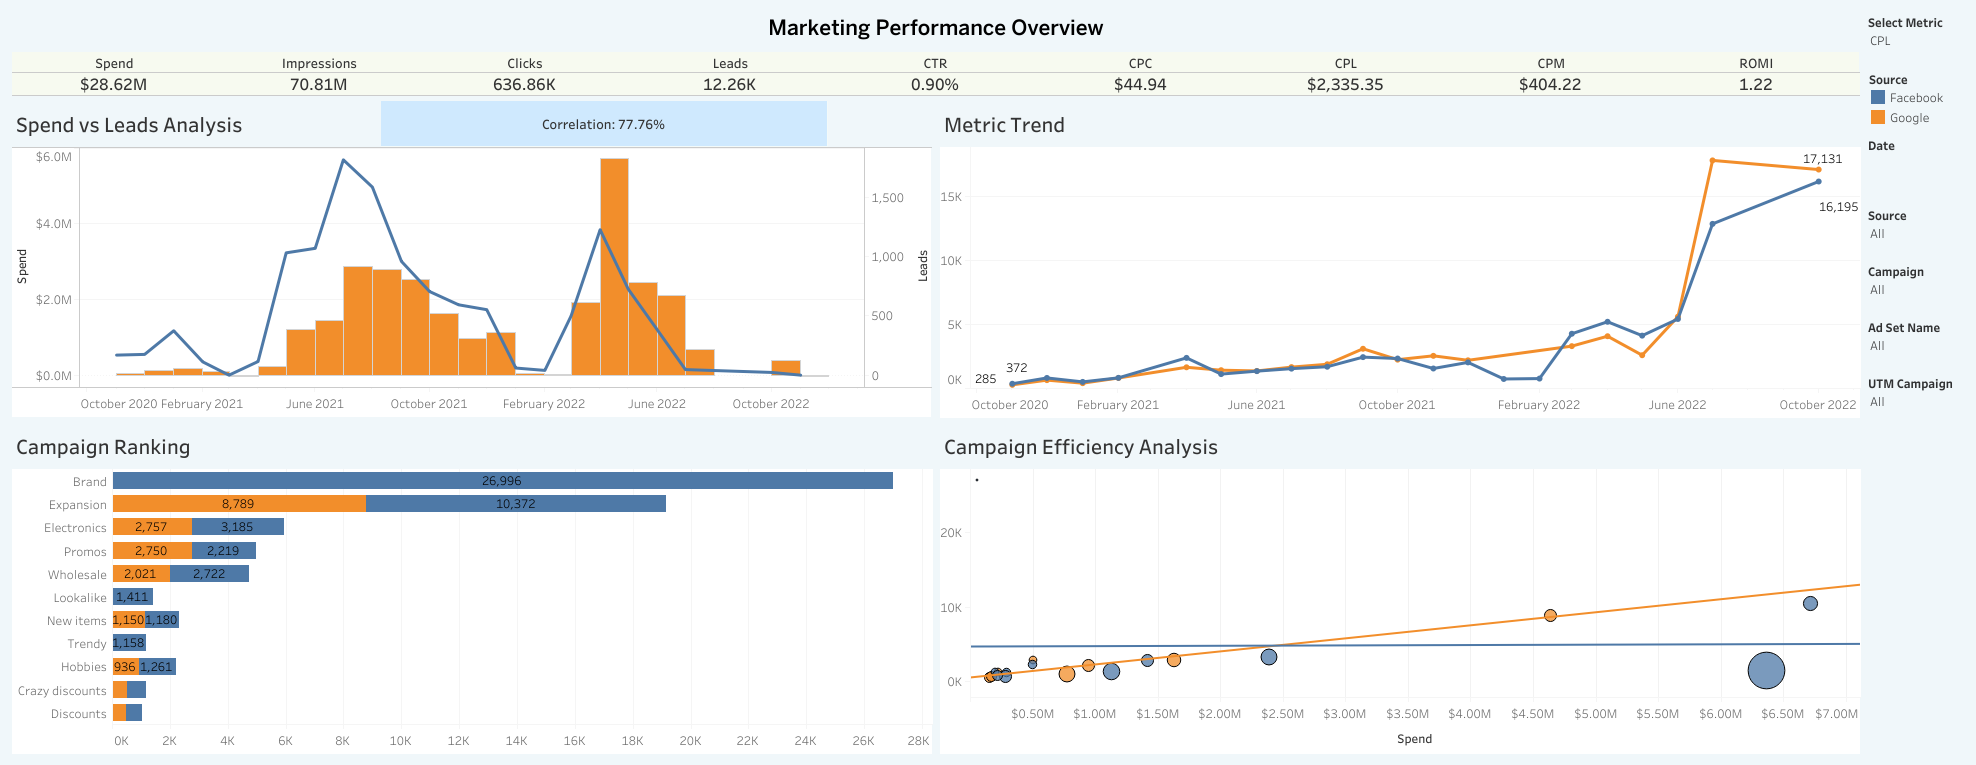

What the dashboard file says about the page in this screenshot:
{"tool":"tableau","page":{"name":"Marketing Performance Overview","canvas":[1000,1000],"units":"permille","ordinal":0},"visuals":[{"type":"text","box":[4.4,10.4,933.7,52.7]},{"type":"parameter","param":"[Parameters].[Parameter 0110541769293836]","box":[938.1,10.4,57.5,72.7]},{"type":"worksheet","title":"KPI_Banner","mark":"Automatic","box":[4.4,63.1,933.7,68]},{"type":"legend","title":"Metric Trend","param":"[federated.1bwj8oc05zjqv517b7vqe1volzjd].[none:source:nk]","box":[938.1,83.1,57.5,87]},{"type":"worksheet","title":"Spend vs Leads Analysis","mark":"Automatic","rows":["total_spend","total_leads"],"cols":["ad_date"],"box":[4.4,131.1,466.6,419.9]},{"type":"worksheet","title":"Metric Trend","mark":"Automatic","rows":["Calculation_0110541770973197"],"cols":["ad_date"],"box":[471,131.1,467.1,419.9]},{"type":"worksheet","title":"Correlation_Card","mark":"Automatic","box":[192.7,131.6,226.2,58.8]},{"type":"filter","title":"Metric Trend","param":"[federated.1bwj8oc05zjqv517b7vqe1volzjd].[none:ad_date:qk]","box":[938.1,170.1,57.5,90.9]},{"type":"filter","title":"Metric Trend","param":"[federated.1bwj8oc05zjqv517b7vqe1volzjd].[none:source:nk]","box":[938.1,261,57.5,72.7]},{"type":"filter","title":"Metric Trend","param":"[federated.1bwj8oc05zjqv517b7vqe1volzjd].[none:campaign_name:nk]","box":[938.1,333.8,57.5,72.7]},{"type":"filter","title":"Metric Trend","param":"[federated.1bwj8oc05zjqv517b7vqe1volzjd].[none:adset_name:nk]","box":[938.1,406.5,57.5,72.7]},{"type":"filter","title":"Metric Trend","param":"[federated.1bwj8oc05zjqv517b7vqe1volzjd].[none:utm_campaign:nk]","box":[938.1,479.2,57.5,72.7]},{"type":"worksheet","title":"Campaign Ranking","mark":"Automatic","rows":["campaign_name"],"cols":["Calculation_0110541770973197"],"box":[4.4,550.9,466.6,438.7]},{"type":"worksheet","title":"Campaign Efficiency Analysis","mark":"Circle","rows":["Calculation_0110541770973197"],"cols":["total_spend"],"box":[471,550.9,467.1,438.7]}]}

Visuals, with their boxes on the dashboard's canvas, which has no fixed pixel size, in thousandths of its width and height (x1, y1, x2, y2). These are canvas units, not pixel positions in the 1976x765 screenshot, which may show the page scaled, cropped or inside an application window:
text: <bbox>4, 10, 938, 63</bbox>
parameter: <bbox>938, 10, 996, 83</bbox>
"KPI_Banner" worksheet: <bbox>4, 63, 938, 131</bbox>
"Metric Trend" legend: <bbox>938, 83, 996, 170</bbox>
"Spend vs Leads Analysis" worksheet: <bbox>4, 131, 471, 551</bbox>
"Metric Trend" worksheet: <bbox>471, 131, 938, 551</bbox>
"Correlation_Card" worksheet: <bbox>193, 132, 419, 190</bbox>
"Metric Trend" filter: <bbox>938, 170, 996, 261</bbox>
"Metric Trend" filter: <bbox>938, 261, 996, 334</bbox>
"Metric Trend" filter: <bbox>938, 334, 996, 406</bbox>
"Metric Trend" filter: <bbox>938, 406, 996, 479</bbox>
"Metric Trend" filter: <bbox>938, 479, 996, 552</bbox>
"Campaign Ranking" worksheet: <bbox>4, 551, 471, 990</bbox>
"Campaign Efficiency Analysis" worksheet (Circle marks): <bbox>471, 551, 938, 990</bbox>
